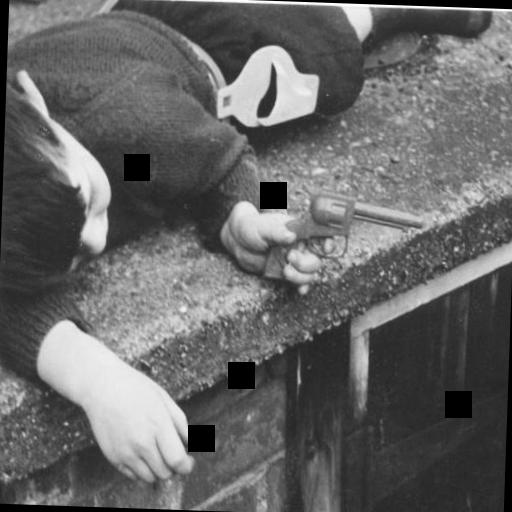Handgun: (260, 184, 422, 296)
